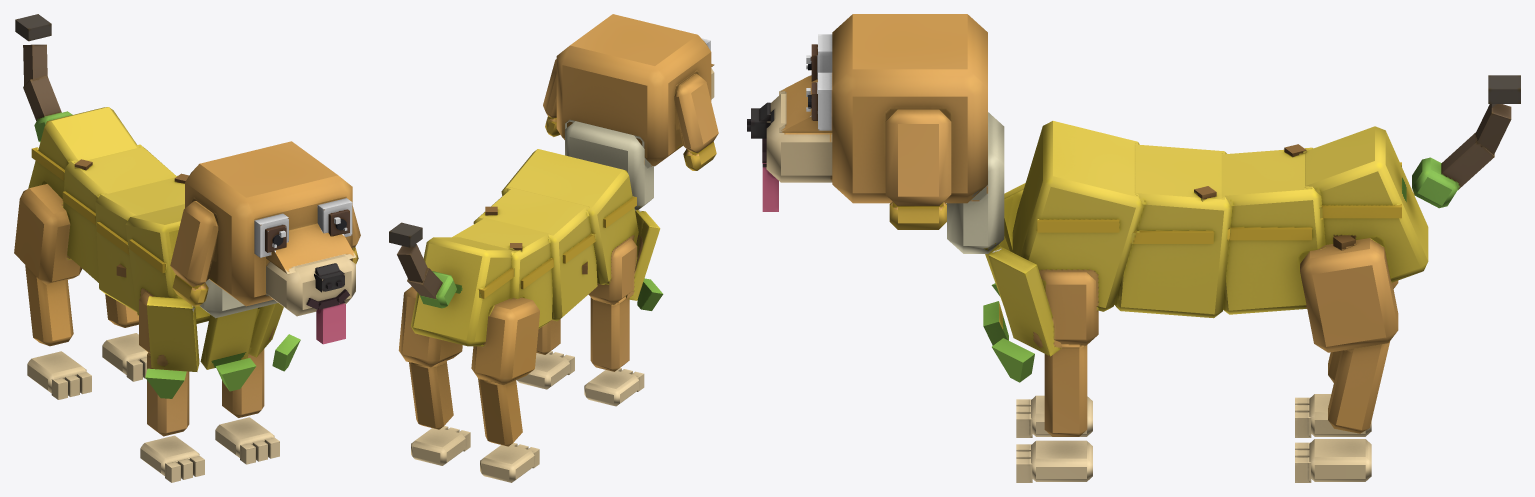
The model's file is BananeChien_Rig.fbx.
3 renders of one model, left to right at view 1: azimuth 30°, elevation 25°; view 2: azimuth 150°, elevation 25°; view 3: azimuth 270°, elevation 25°, orthographic. The views are drawn at different scales.
Parts seen in each view (by area): view 1: Body, Head, LegBR, LegFR, LegFL, EarR, Tail, LegBL; view 2: Body, Head, LegBR, LegBL, LegFR, EarR, Tail, LegFL, EarL; view 3: Body, Head, LegBL, LegFL, EarL, Tail, LegBR, LegFR.
Boxes of the visible parts, x1,y1,x2,y2 form: Body: (28,107,300,398); Head: (185,141,356,344); LegBR: (14,184,91,399); LegFR: (139,292,204,482); LegFL: (215,308,279,464); EarR: (170,201,218,306); Tail: (15,14,61,120); LegBL: (102,294,147,381); Body: (411,121,663,346); Head: (556,14,714,166); LegBR: (471,297,539,482); LegBL: (398,286,470,465); LegFR: (584,238,644,406); EarR: (674,73,718,170); Tail: (389,222,442,299); LegFL: (517,319,574,389); EarL: (543,59,560,136); Body: (947,112,1457,382); Head: (747,14,987,211); LegBL: (1295,238,1398,482); LegFL: (1016,272,1098,482); EarL: (885,109,951,229); Tail: (1441,75,1520,189); LegBR: (1295,280,1398,437); LegFR: (1016,395,1092,437).
Bounding box in the file's own units: 3.29 × 6 × 10.3.
Materials: 1 (1 with a texture image).
